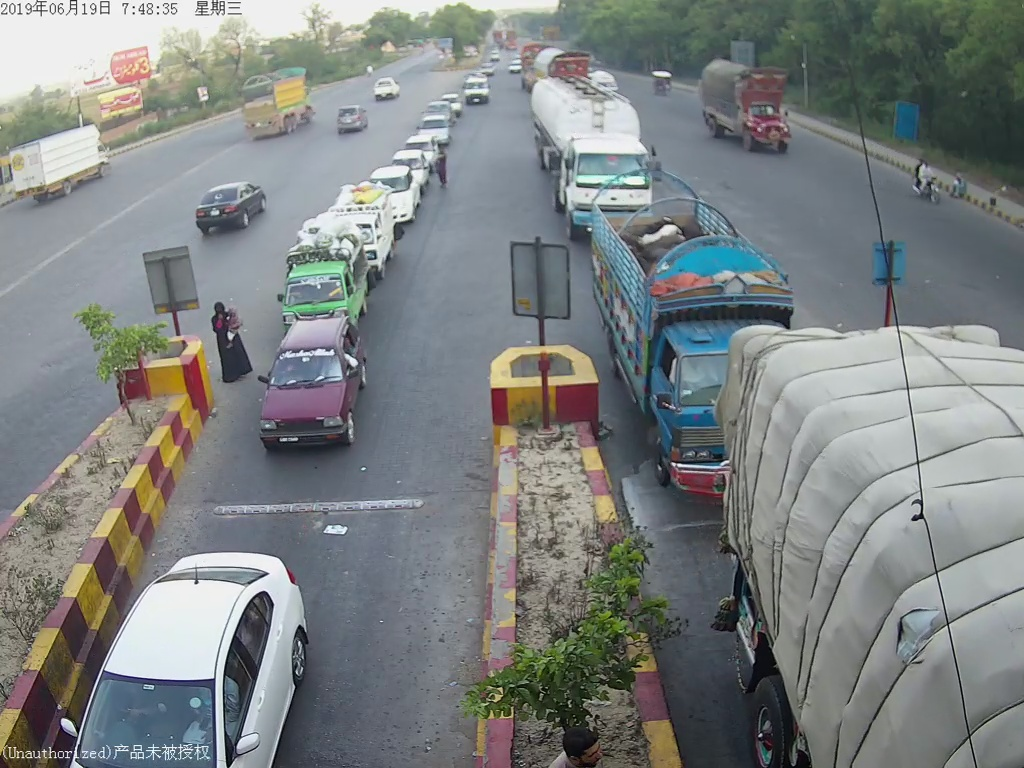Cat-1: (253, 315, 369, 451), (281, 232, 367, 330), (329, 187, 395, 274), (371, 163, 422, 222)
Cat-2: (597, 169, 793, 498)
Cat-5: (524, 67, 655, 234)
